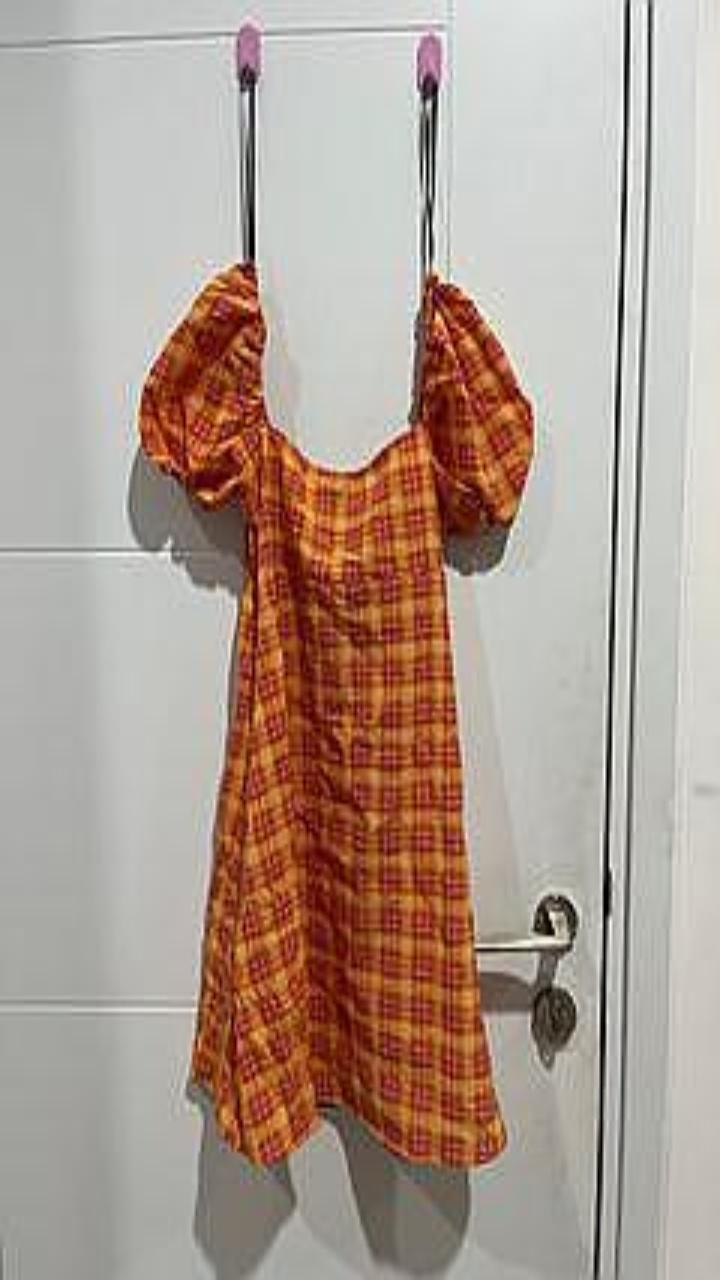Dresses: (139, 261, 532, 1165)
